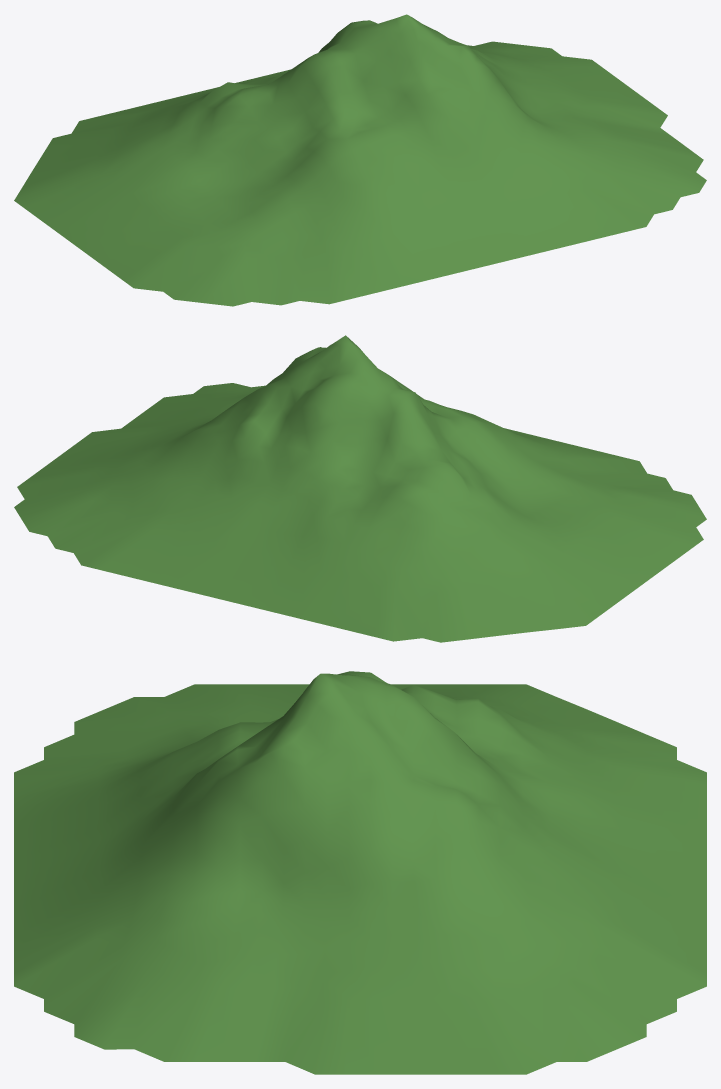
The model's file is SM_Mountain04.fbx.
3 renders of one model, top to bottom at view 1: azimuth 30°, elevation 25°; view 2: azimuth 150°, elevation 25°; view 3: azimuth 270°, elevation 25°, orthographic. The views are drawn at different scales.
Parts seen in each view (by area): view 1: SM_Mountain04; view 2: SM_Mountain04; view 3: SM_Mountain04.
Boxes of the visible parts, x1,y1,x2,y2 form: SM_Mountain04: (14, 14, 706, 306); SM_Mountain04: (14, 335, 706, 642); SM_Mountain04: (14, 671, 706, 1074).
Bounding box in the file's own units: 3410 × 2557 × 919.
